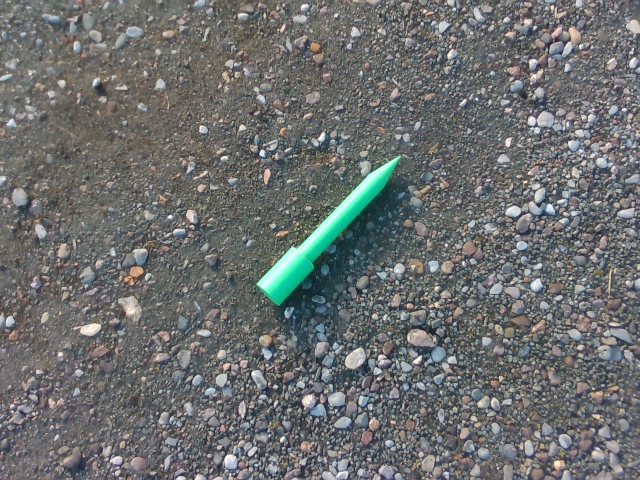Probe: (251, 143, 414, 313)
